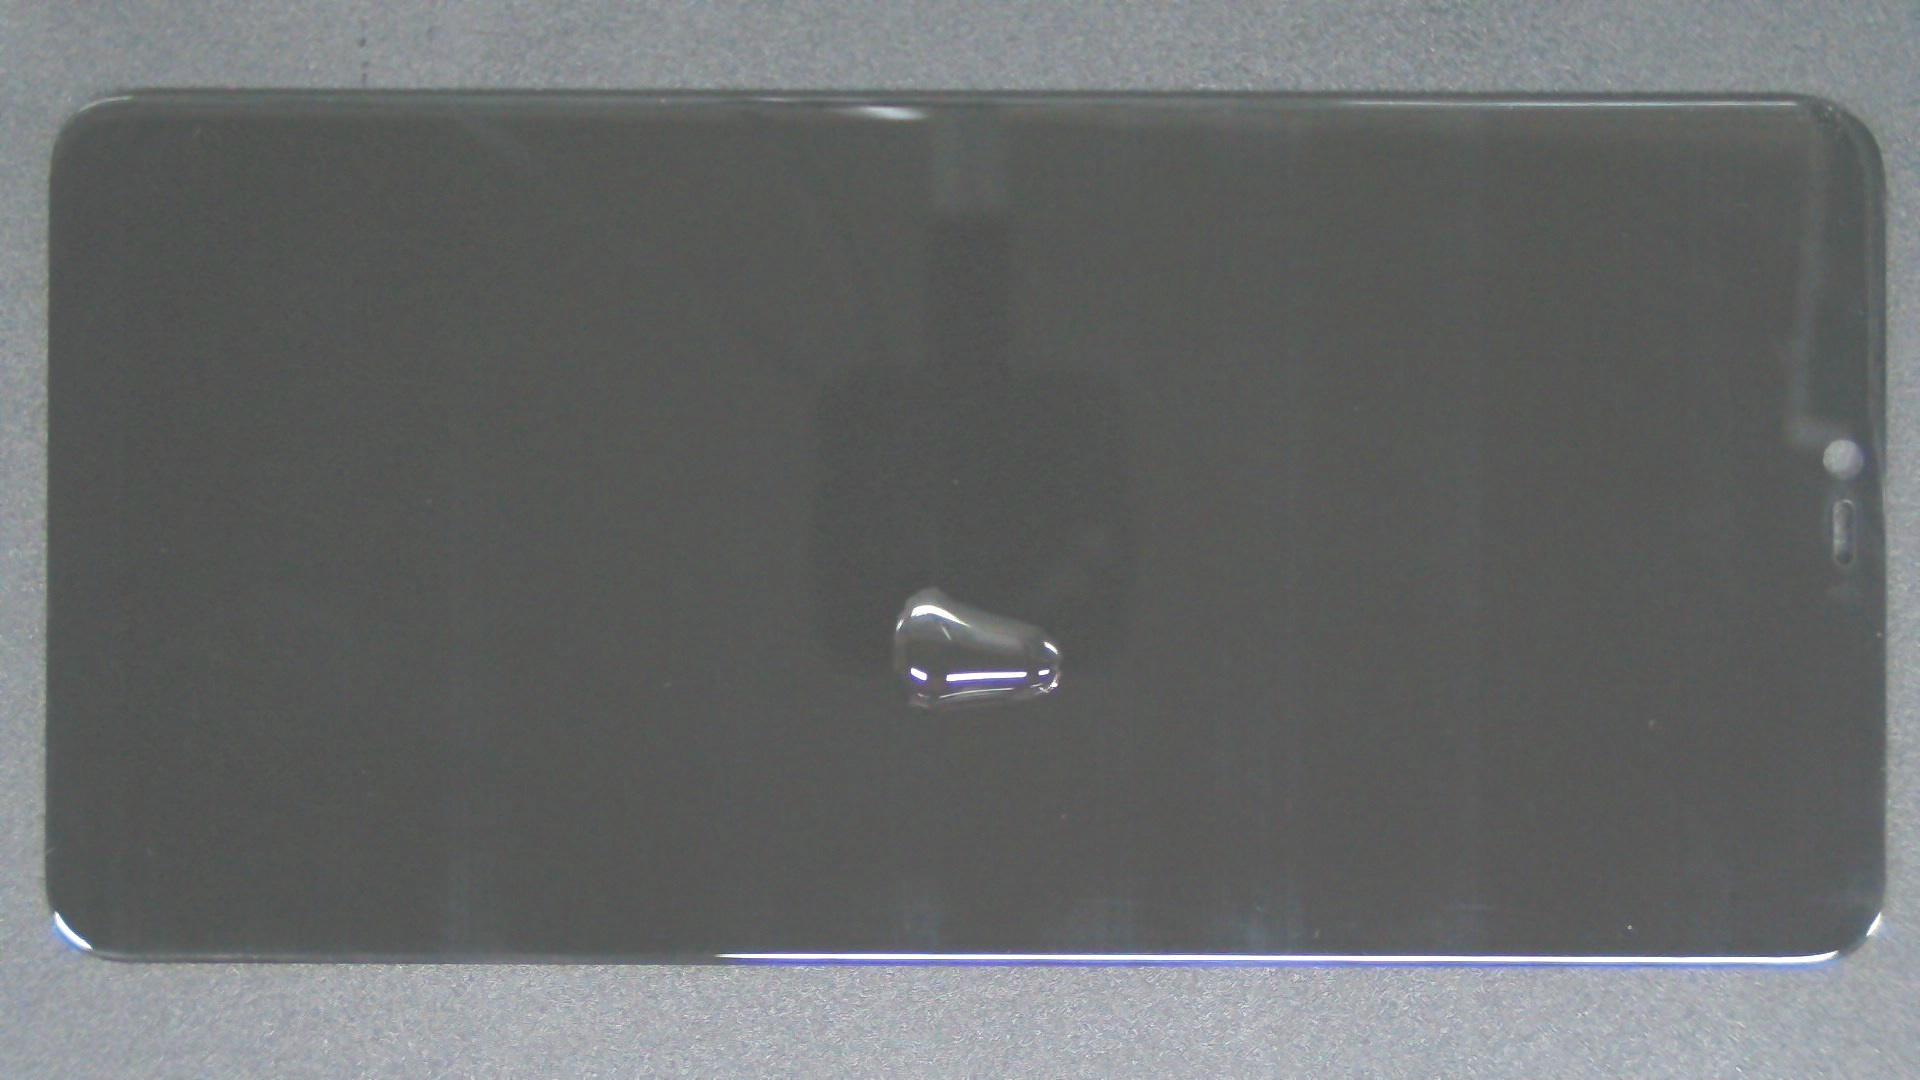oil: (463, 294, 1386, 882)
